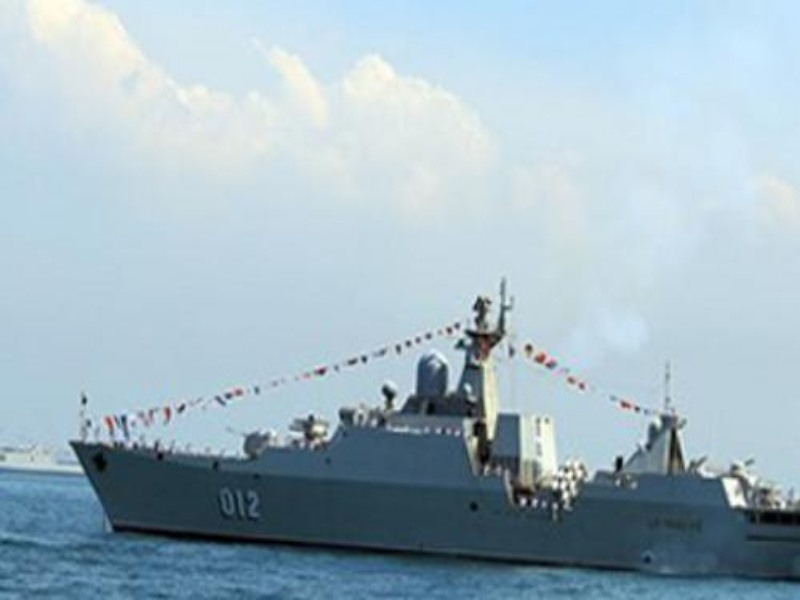cruise: (67, 341, 794, 578)
